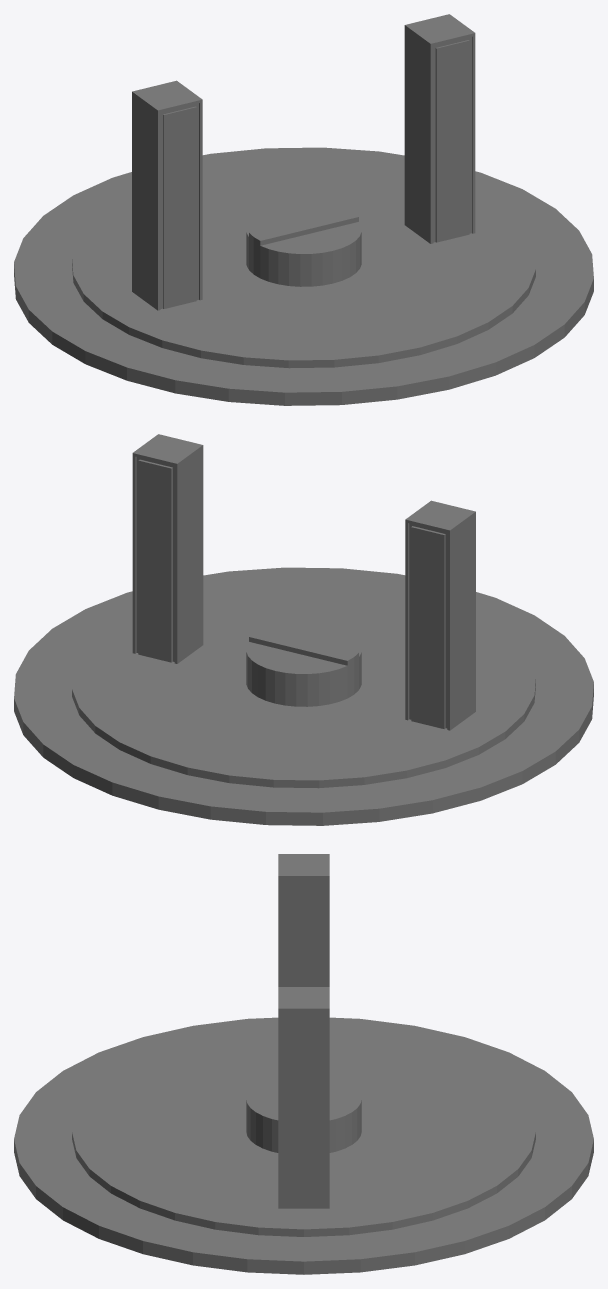
The model's file is Altar.fbx.
3 views of the same model, one above another, from view 1: azimuth 30°, elevation 25°; view 2: azimuth 150°, elevation 25°; view 3: azimuth 270°, elevation 25° (orthographic).
Visible parts, largest first — view 1: Altar; view 2: Altar; view 3: Altar.
Part boxes in pixels (x1=…): Altar: x1=14, y1=14, x2=593, y2=405; Altar: x1=14, y1=434, x2=593, y2=825; Altar: x1=14, y1=854, x2=593, y2=1274.
Size of the model in its own units: 562 by 236 by 562.
